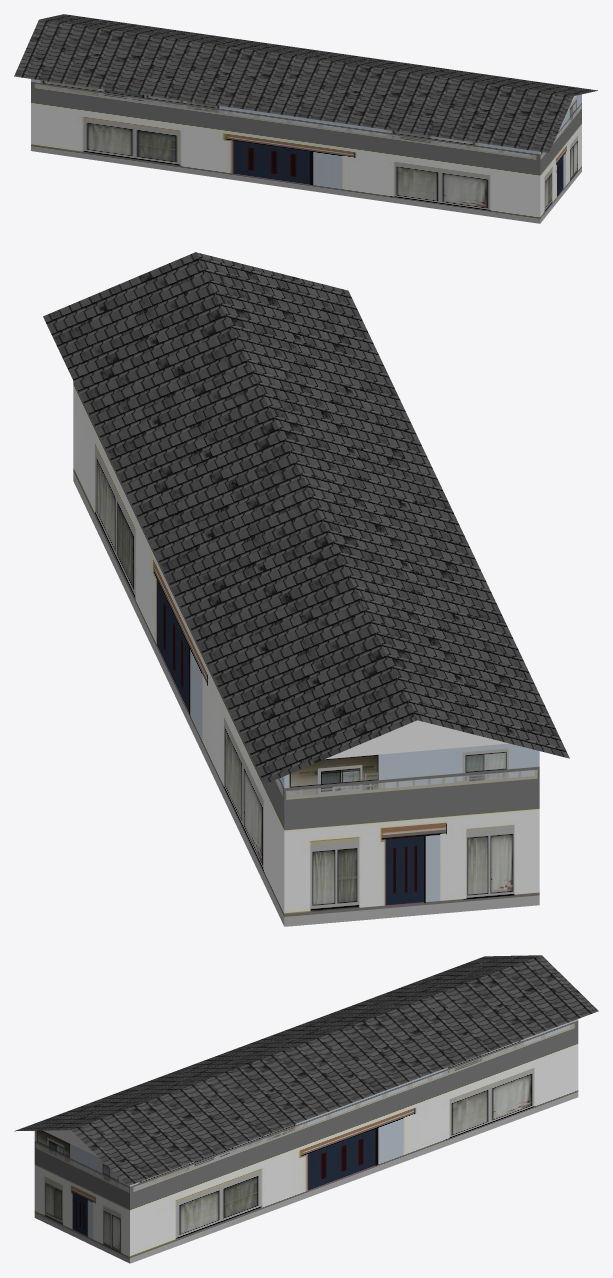
3 views of the same model, one above another, from view 1: azimuth 30°, elevation 25°; view 2: azimuth 150°, elevation 25°; view 3: azimuth 270°, elevation 25° (orthographic). The views are drawn at different scales.
Parts seen in each view (by area): view 1: CityEngineMaterial_7_m, CityEngineMaterial_8_m; view 2: CityEngineMaterial_8_m, CityEngineMaterial_7_m, CityEngineMaterial_3_m; view 3: CityEngineMaterial_8_m, CityEngineMaterial_7_m, CityEngineMaterial_3_m.
Boxes of the visible parts, x1=… form: CityEngineMaterial_7_m: x1=31, y1=79, x2=581, y2=223; CityEngineMaterial_8_m: x1=14, y1=14, x2=597, y2=152; CityEngineMaterial_8_m: x1=43, y1=252, x2=569, y2=784; CityEngineMaterial_7_m: x1=73, y1=381, x2=539, y2=926; CityEngineMaterial_3_m: x1=325, y1=720, x2=508, y2=759; CityEngineMaterial_8_m: x1=14, y1=955, x2=598, y2=1185; CityEngineMaterial_7_m: x1=34, y1=1019, x2=578, y2=1263; CityEngineMaterial_3_m: x1=43, y1=1130, x2=98, y2=1157.
Size of the model in its own units: 35.8 by 8.35 by 38.51.
